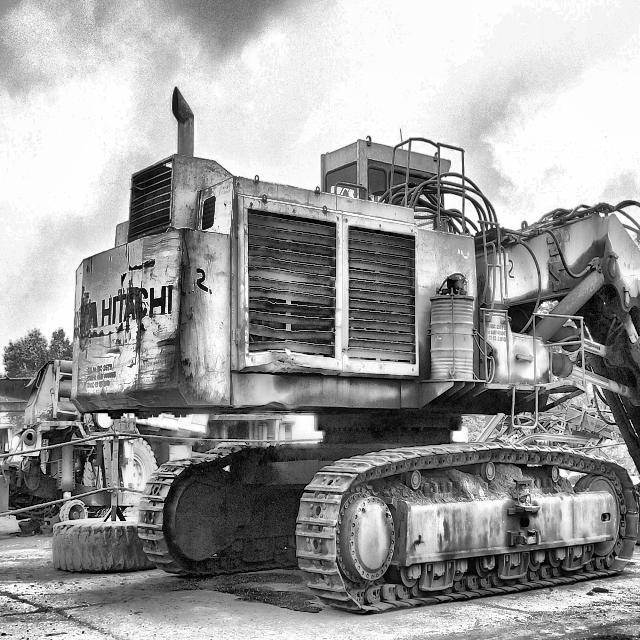excavator: (61, 98, 640, 609)
